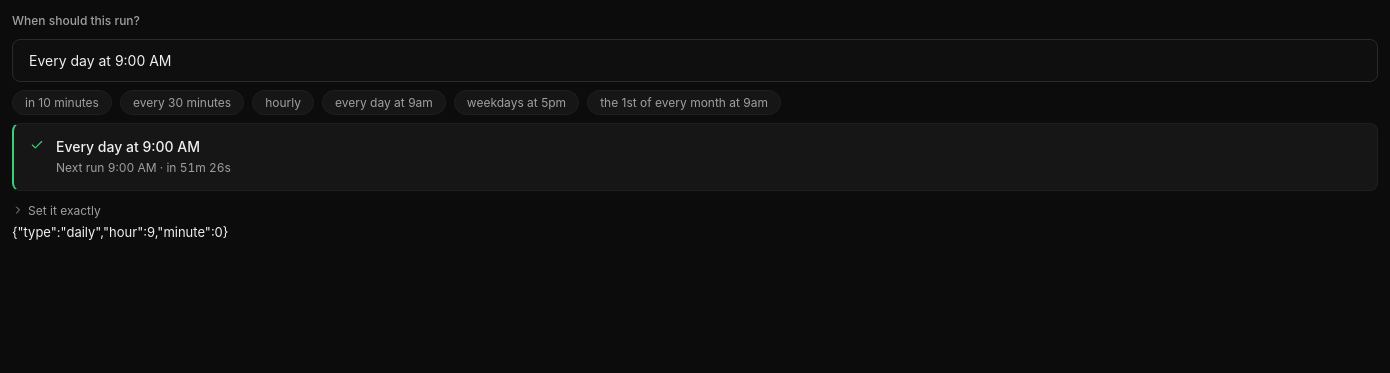
WhenField › leaves the other types working
Click the button "Set it exactly" at {"x": 56, "y": 210}, box [12, 199, 101, 222]
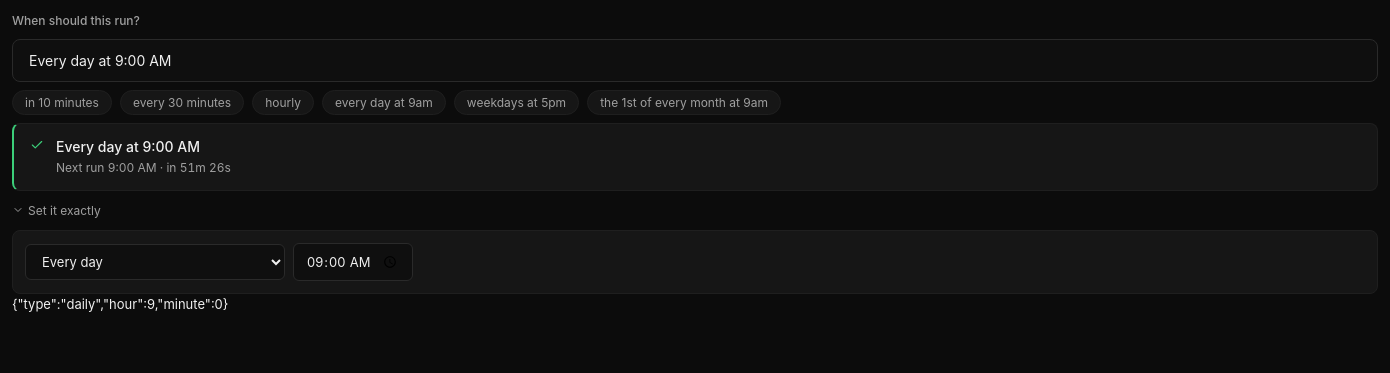
Select "Once" in the dropdown at {"x": 155, "y": 262}, box [25, 244, 285, 280]
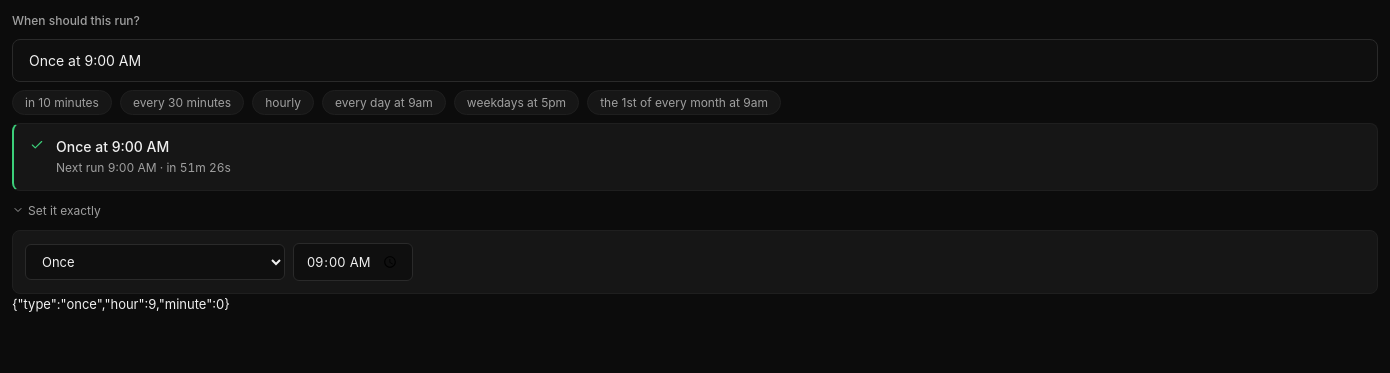
Expected: the field labelled "When should this run?" holds "Once at 9:00 AM", [12, 39, 1378, 82]
Expected: the text "Once at 9:00 AM" is shown, [56, 138, 169, 155]
Select "Every day" in the dropdown at {"x": 155, "y": 262}, box [25, 244, 285, 280]
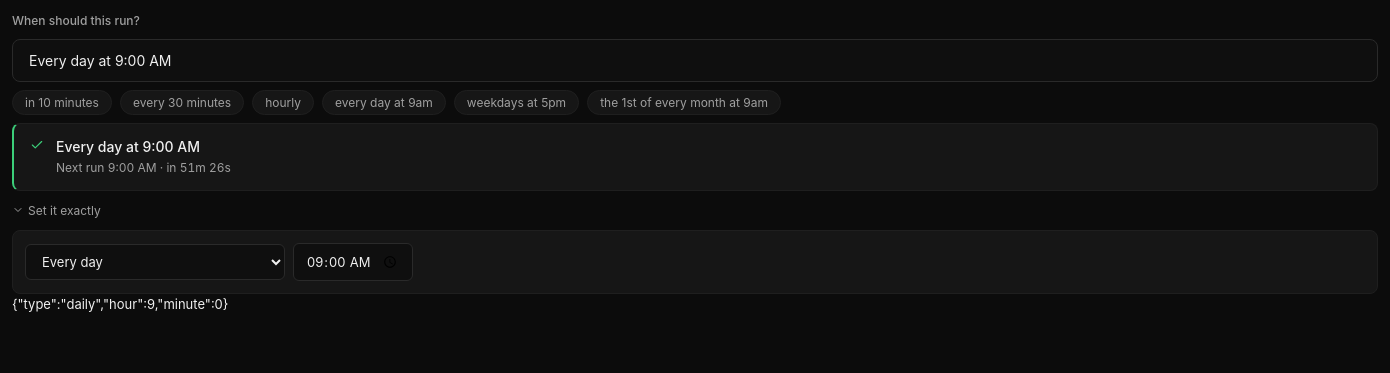
Expected: the field labelled "When should this run?" holds "Every day at 9:00 AM", [12, 39, 1378, 82]
Expected: the text "Every day at 9:00 AM" is shown, [56, 138, 200, 155]
Select "Certain days" in the dropdown at {"x": 155, "y": 262}, box [25, 244, 285, 280]
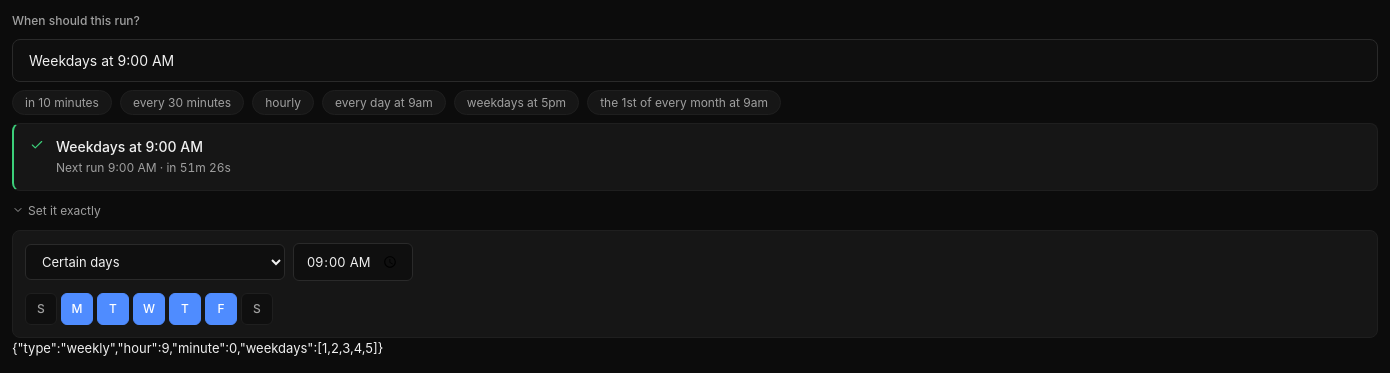
Select "On a repeat" in the dropdown at {"x": 155, "y": 262}, box [25, 244, 285, 280]
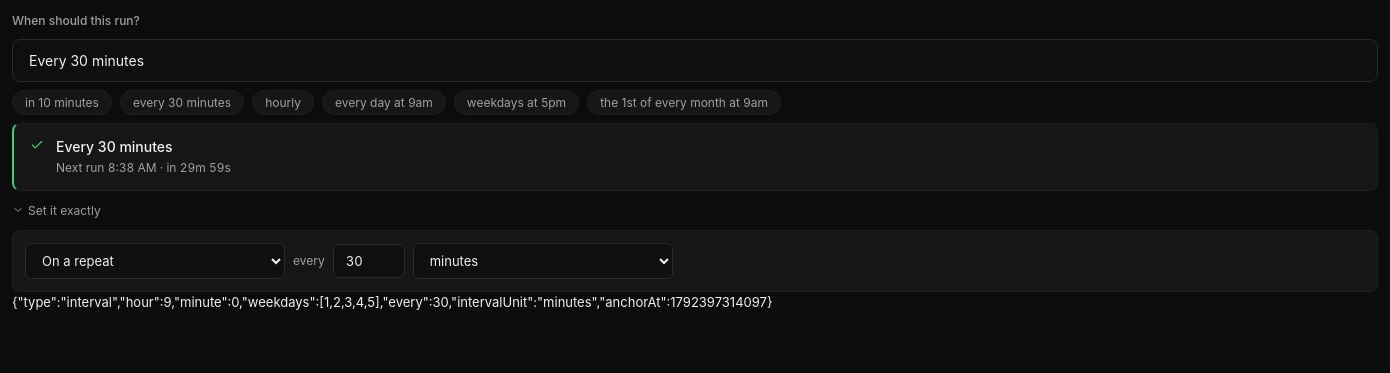
Expected: the field labelled "When should this run?" holds "Every 30 minutes", [12, 39, 1378, 82]
Expected: the text "Every 30 minutes" is shown, [56, 138, 173, 155]
